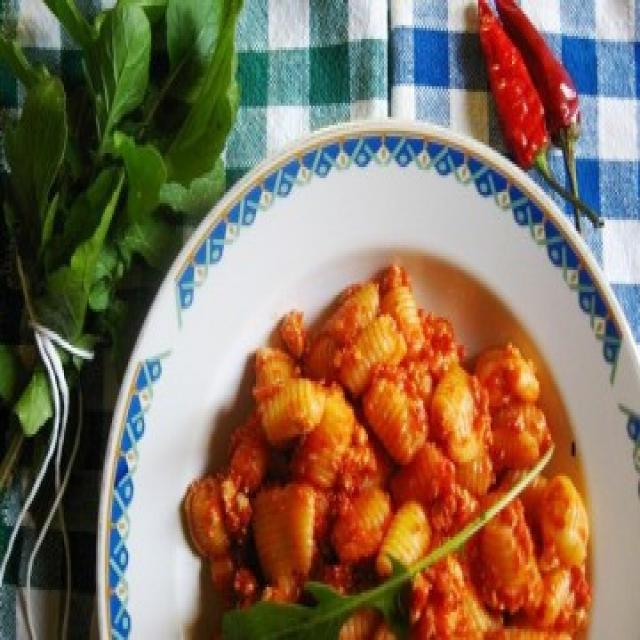Pasta al ragu: (208, 253, 606, 631)
